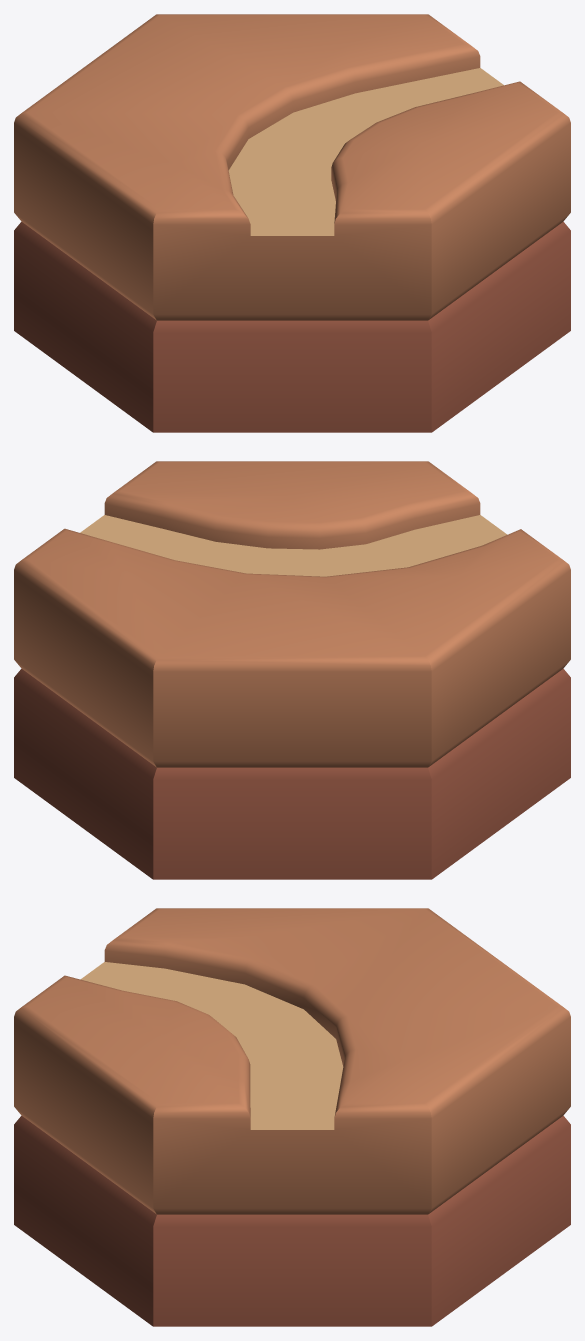
The model's file is hex_rock_roadD_detail.glb.
3 renders of one model, top to bottom at view 1: azimuth 30°, elevation 25°; view 2: azimuth 150°, elevation 25°; view 3: azimuth 270°, elevation 25°, orthographic.
Visible parts, largest first — view 1: hex_rock_roadD_detail; view 2: hex_rock_roadD_detail; view 3: hex_rock_roadD_detail.
Part boxes in pixels (x1,y1,x2,y2): hex_rock_roadD_detail: (14,14,570,432); hex_rock_roadD_detail: (14,461,570,879); hex_rock_roadD_detail: (14,908,570,1326).
Size of the model in its own units: 2 by 1 by 2.31.
